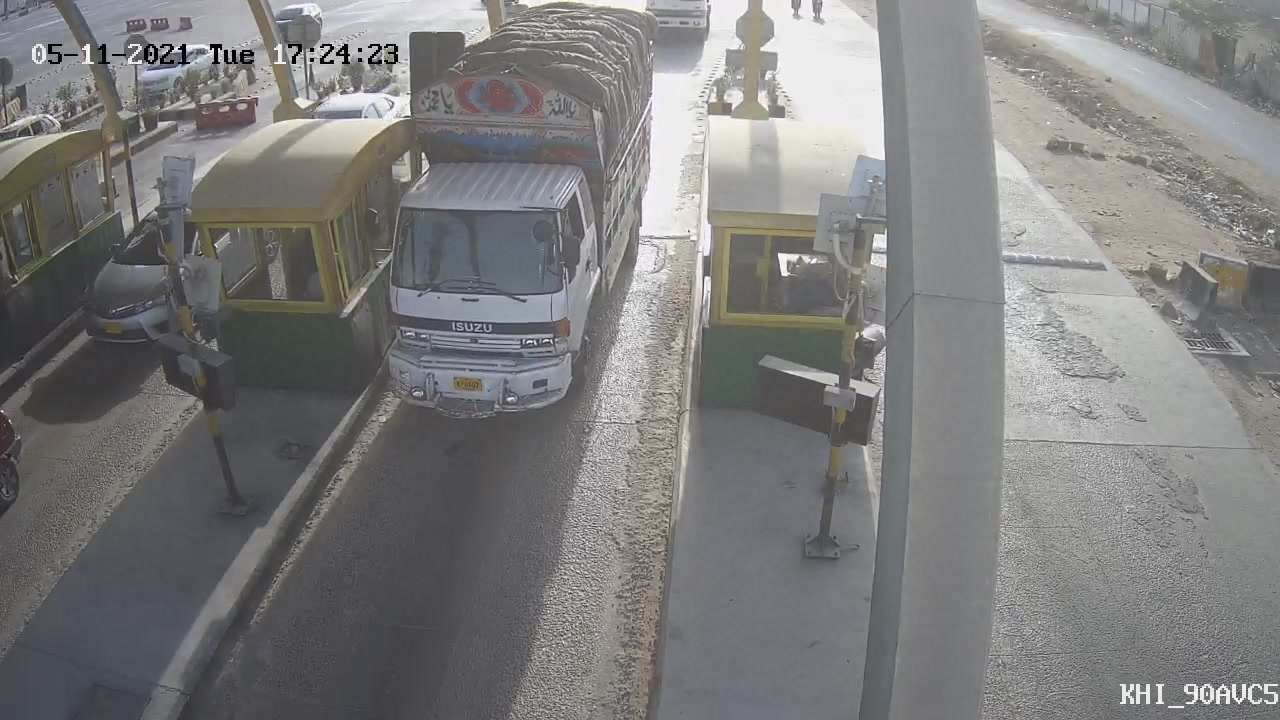F5: (320, 1, 691, 448)
